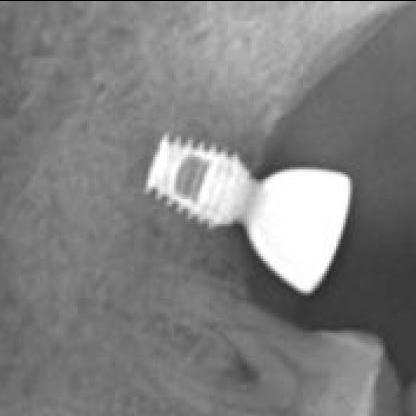Bicon: (121, 107, 252, 253)
